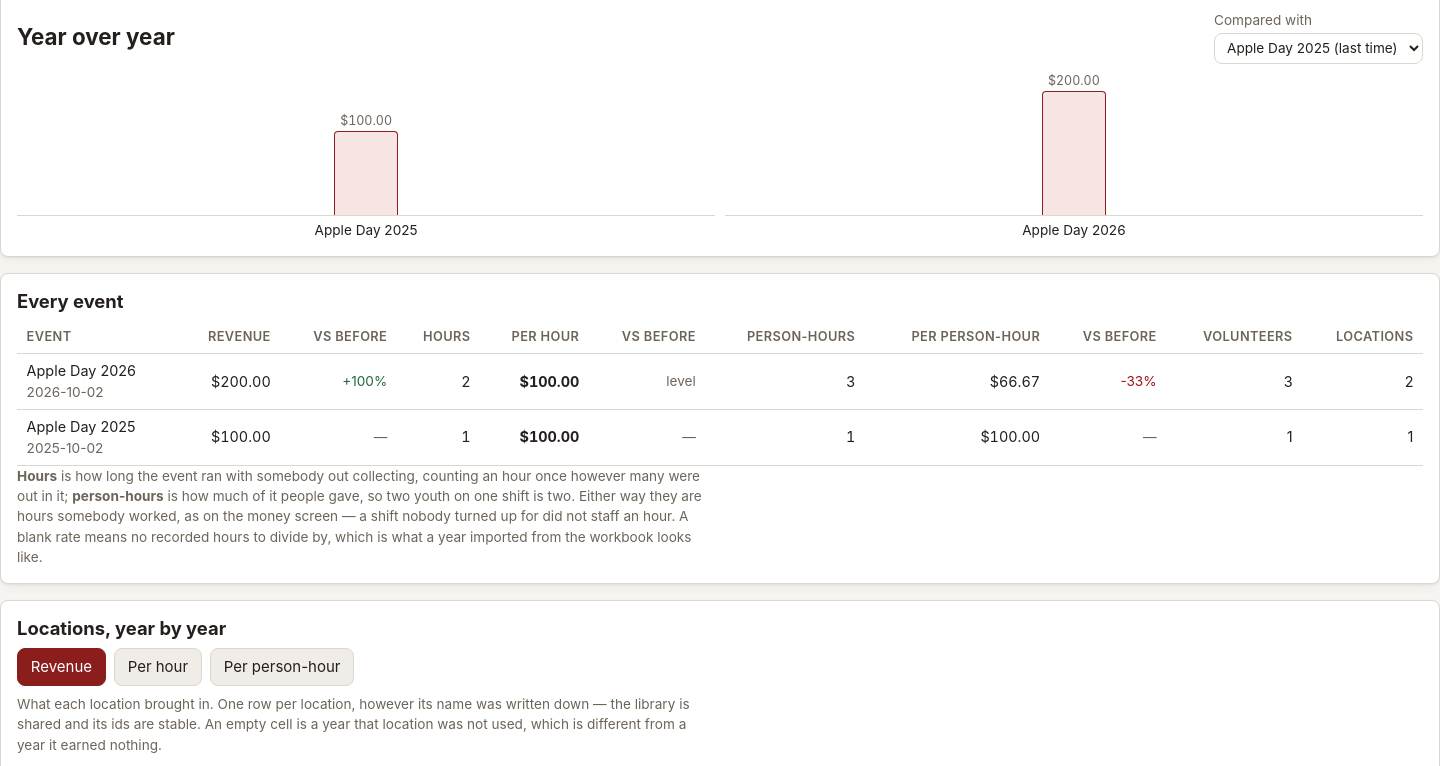
Test: what the locations table is measuring › changes what the trend column compares, not just the cells
Click the button "Per hour".
click(158, 667)  # box [114,648,202,686]
(page scrolled)
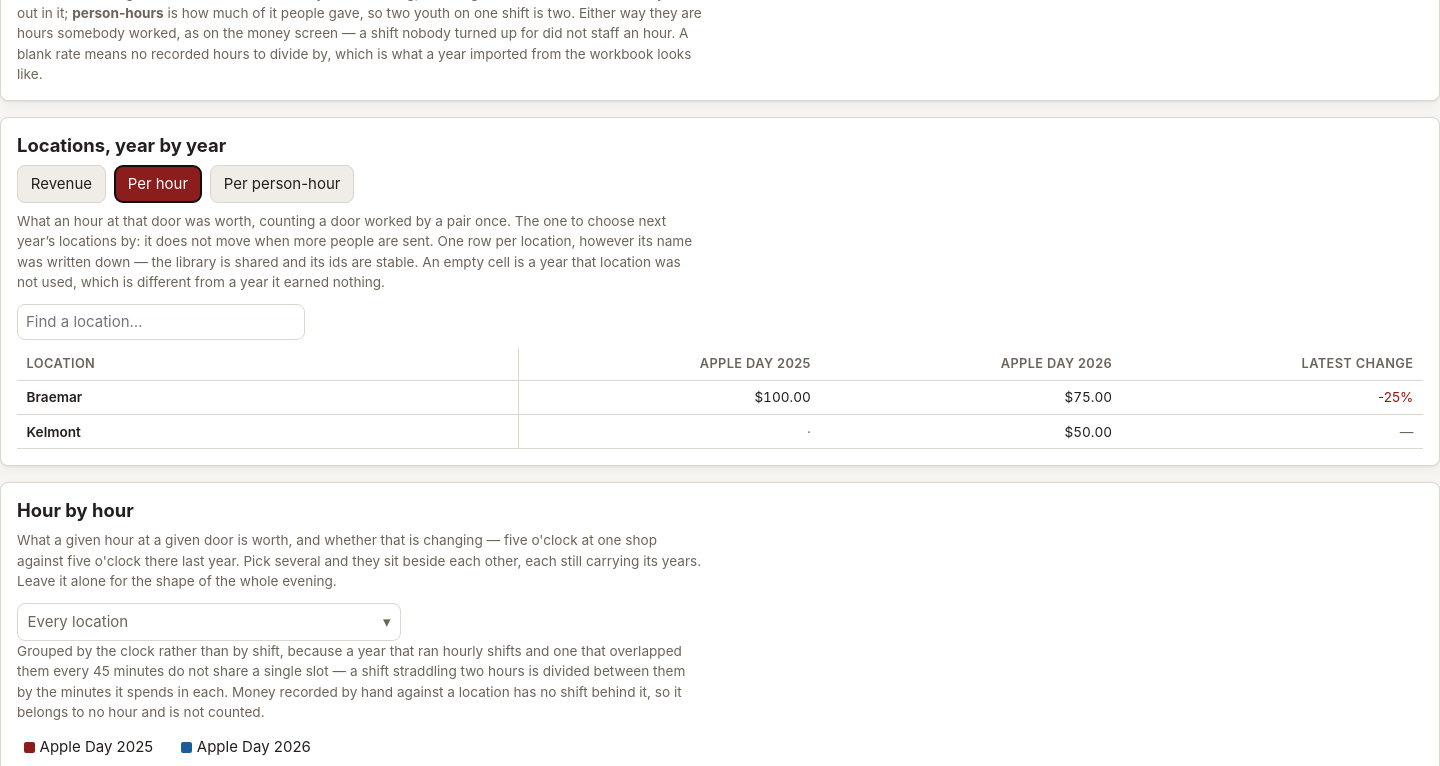
Check: the row "Braemar $100.00 $75.00 -25%" is shown, box [17,381,1423,415]
